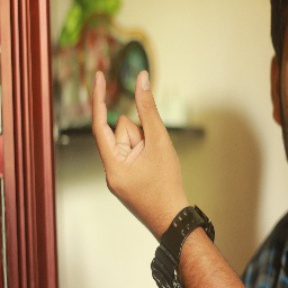U: (84, 62, 184, 197)
